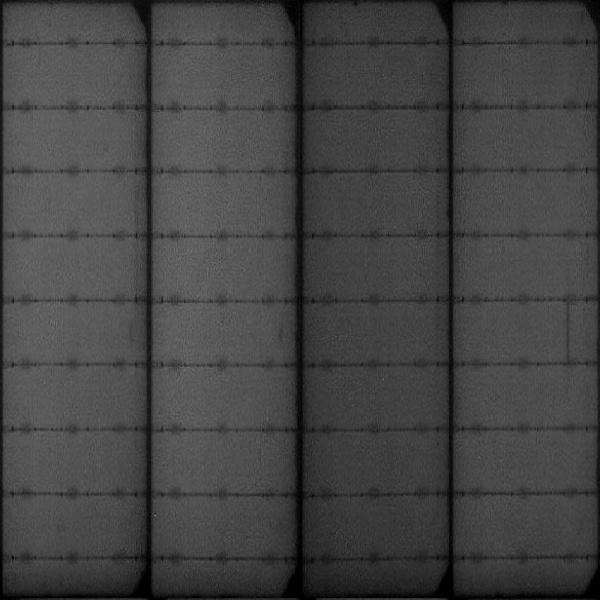scratch: (560, 294, 572, 366)
